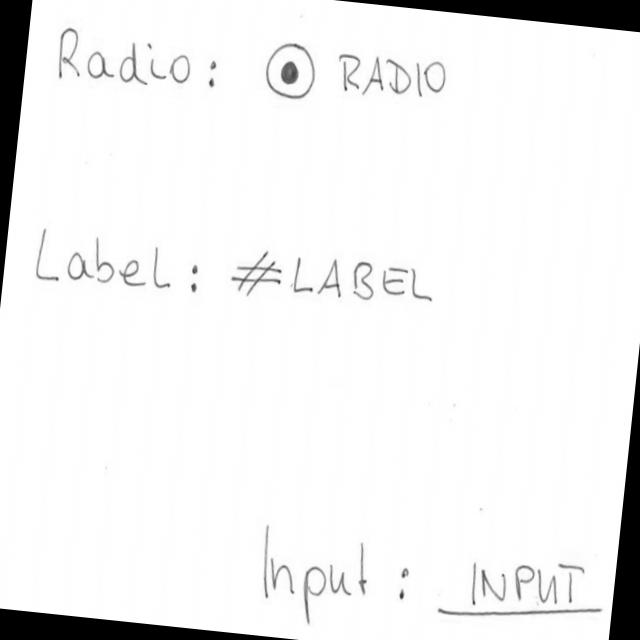input: (435, 543, 610, 635)
label: (226, 240, 440, 317)
radio: (259, 38, 450, 120)
